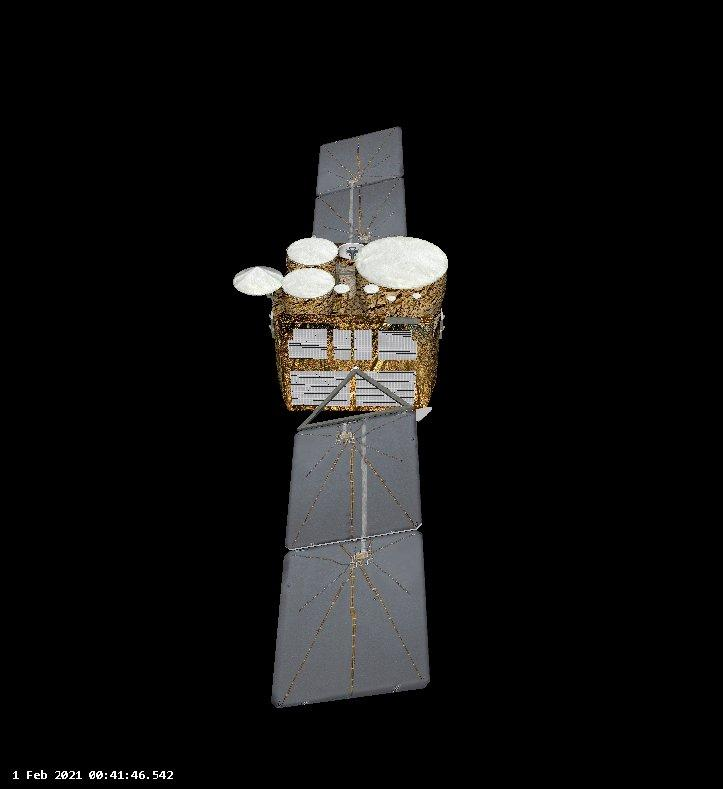antenna: (354, 235, 450, 291), (282, 266, 337, 300), (232, 263, 285, 297), (287, 236, 341, 267), (336, 241, 367, 261), (362, 282, 381, 295), (332, 282, 350, 295)
body: (267, 256, 450, 414)
solar: (266, 405, 432, 711), (308, 124, 410, 245)
thruster: (413, 405, 434, 423)
